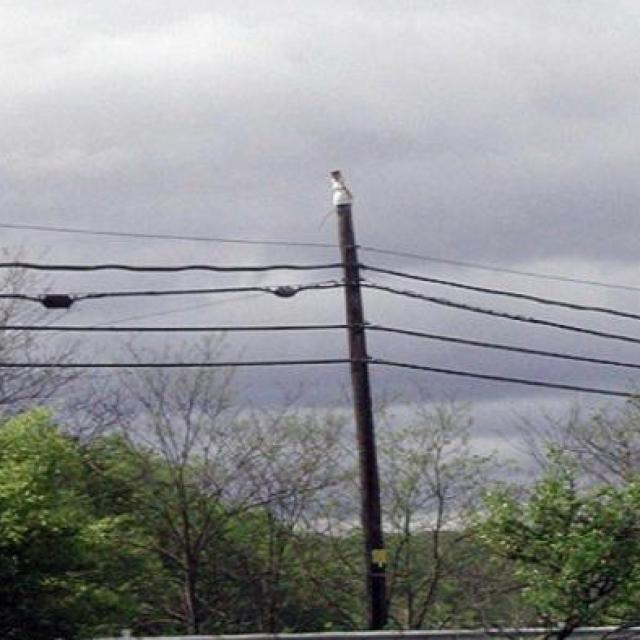non-critical vegetation: (297, 146, 414, 621)
